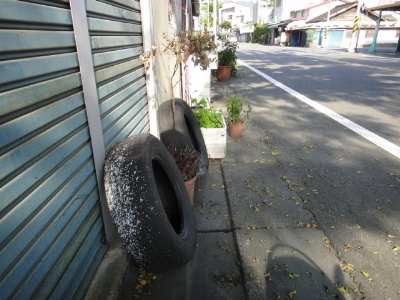tire: (102, 132, 199, 272), (156, 99, 210, 175)
